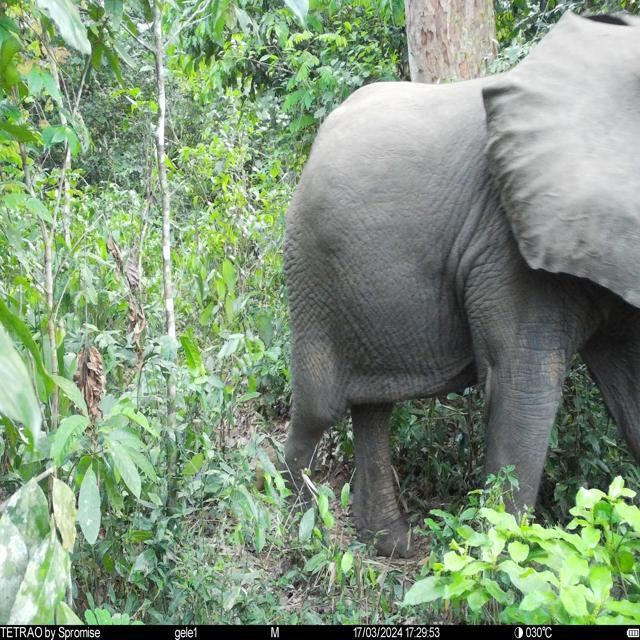ear: (481, 9, 639, 310)
elephant: (280, 10, 640, 558)
